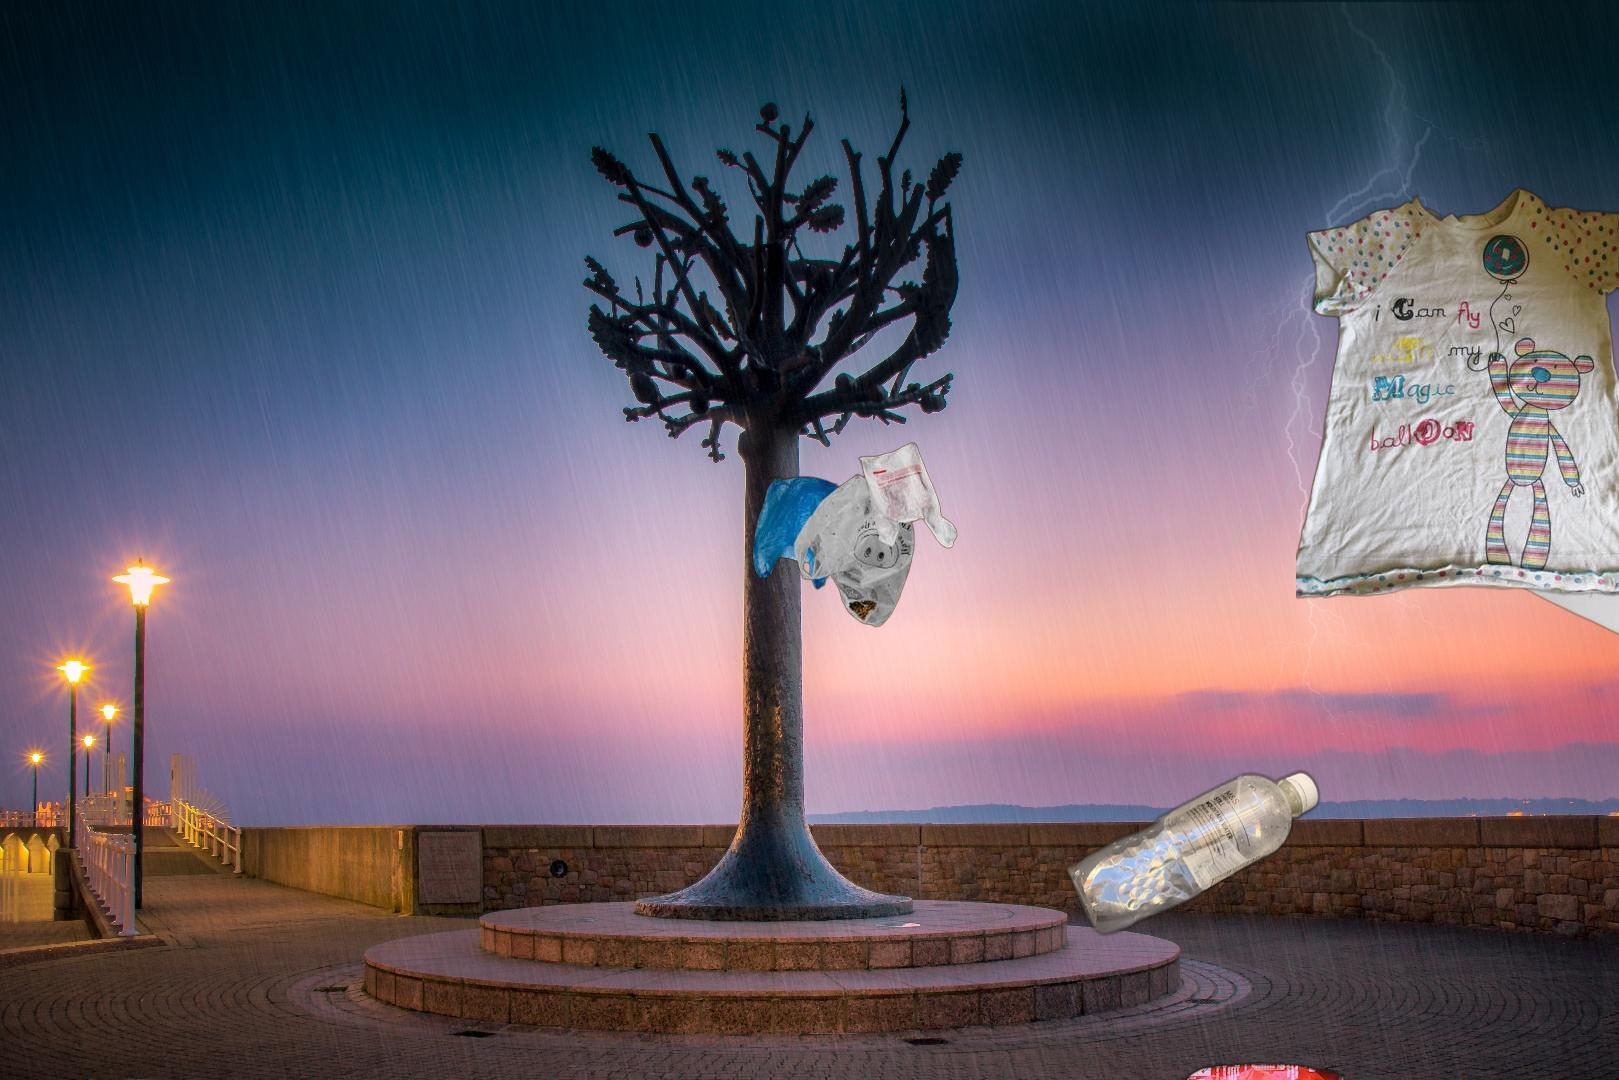clothes: (1296, 183, 1619, 606), (11, 1074, 353, 1080)
metal-cans: (1086, 655, 1599, 1080)
paper: (1476, 354, 1619, 667)
plastic-bag: (749, 440, 960, 630)
plastic-bottles: (1064, 523, 1324, 1080)
